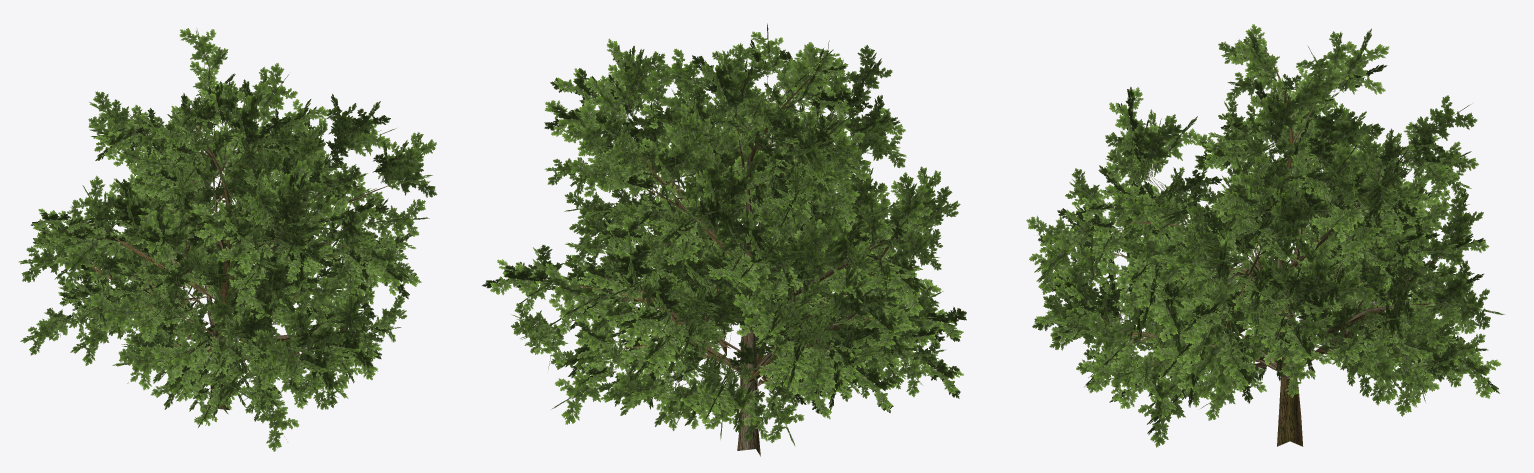
Rendered from ez_oak_b.glb.
3 views of the same model, side by side, from view 1: azimuth 30°, elevation 25°; view 2: azimuth 150°, elevation 25°; view 3: azimuth 270°, elevation 25° (orthographic). The views are drawn at different scales.
Parts seen in each view (by area): view 1: Tree; view 2: Tree; view 3: Tree.
Boxes of the visible parts, box(x1,y1,x2,y2) form: Tree: box(18, 28, 437, 451); Tree: box(482, 23, 966, 456); Tree: box(1026, 24, 1504, 447).
Bounding box in the file's own units: 120 × 103 × 116.
Materials: 2 (2 with a texture image).
